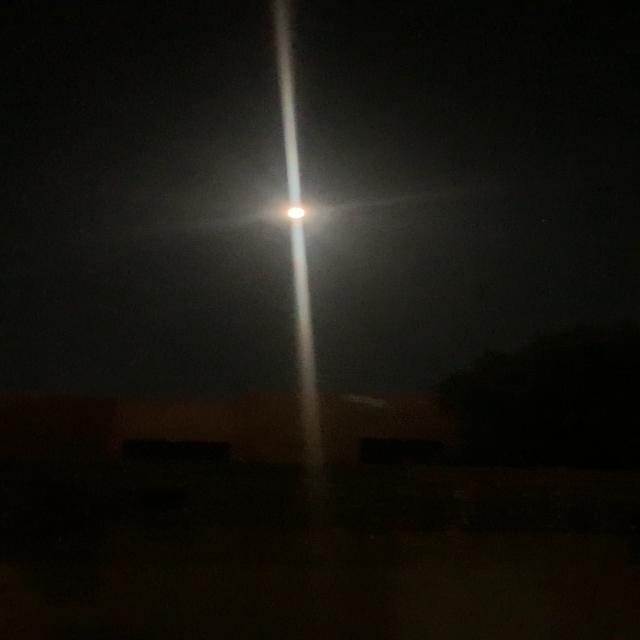moon: (270, 197, 332, 230)
